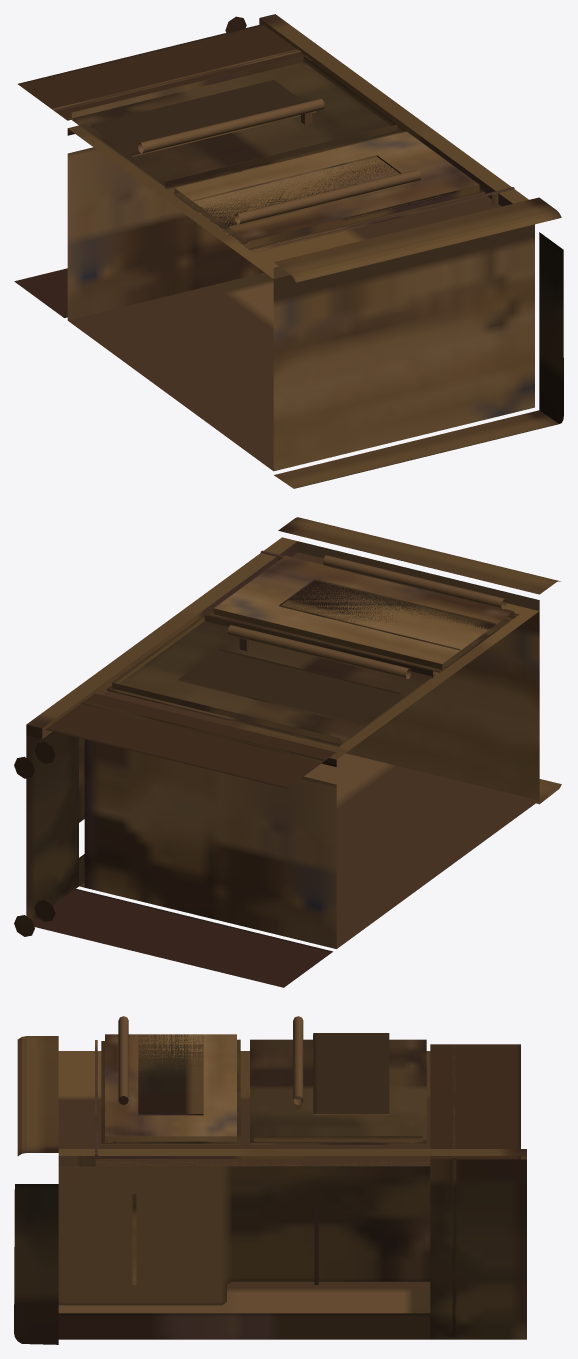
The model's file is section-3.obj.
The picture shows the model from 3 angles, top to bottom: view 1: azimuth 30°, elevation 25°; view 2: azimuth 150°, elevation 25°; view 3: azimuth 270°, elevation 25°; orthographic projection. The views are drawn at different scales.
Size of the model in its own units: 0.7445 by 0.629 by 1.48.
